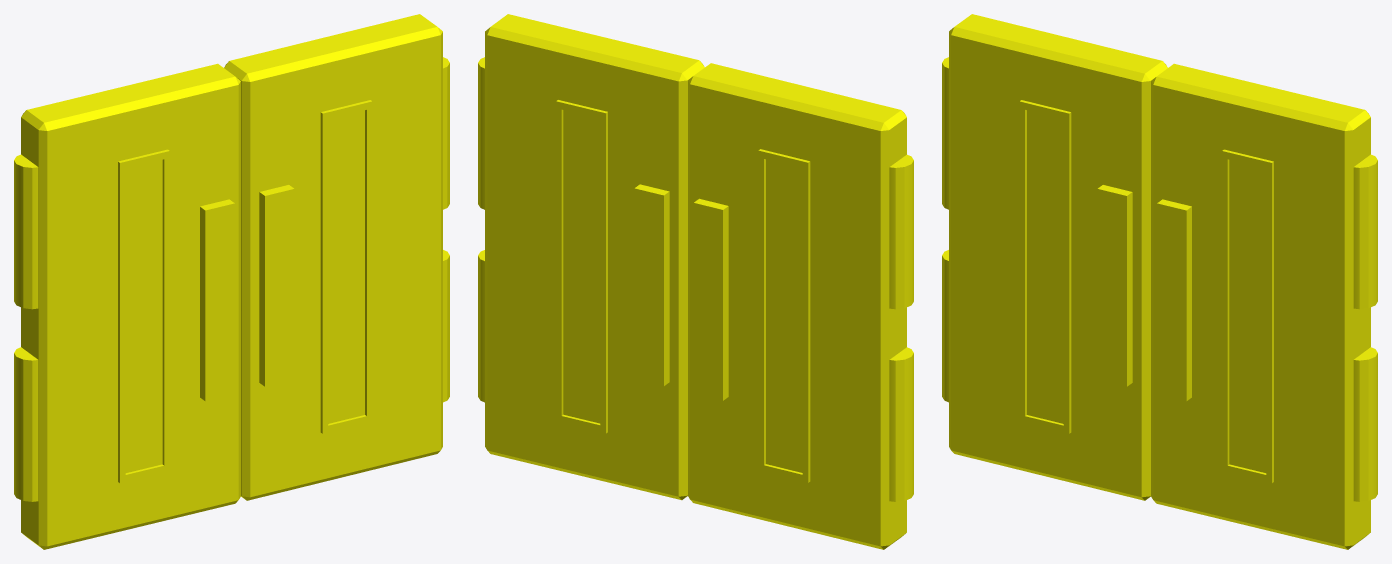
3 renders of one model, left to right at view 1: azimuth 30°, elevation 25°; view 2: azimuth 150°, elevation 25°; view 3: azimuth 330°, elevation 25°, orthographic.
Visible parts, largest first — view 1: Door2, Door1; view 2: Door2, Door1; view 3: Door1, Door2.
Boxes of the visible parts, x1,y1,x2,y2 form: Door2: [14, 63, 240, 549]; Door1: [224, 14, 449, 500]; Door2: [688, 63, 913, 549]; Door1: [478, 14, 704, 500]; Door1: [1151, 63, 1377, 549]; Door2: [942, 14, 1167, 500].
Bounding box in the file's own units: 0.0156 × 0.0148 × 0.00221.
Materials: 1 (1 with a texture image).
